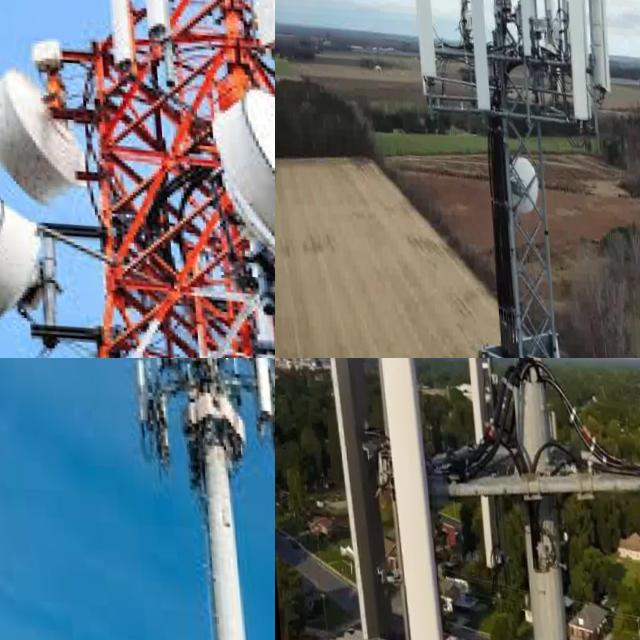GSM Antenna: (327, 358, 403, 640), (372, 358, 444, 640), (461, 358, 501, 570), (557, 0, 593, 119), (519, 358, 551, 475), (459, 0, 491, 108), (580, 0, 615, 92), (497, 145, 537, 215), (99, 0, 136, 70), (408, 0, 436, 76), (236, 0, 275, 50), (247, 358, 274, 429), (134, 0, 172, 38), (534, 0, 560, 48), (126, 358, 144, 413), (512, 0, 530, 43)
Microwave Antenna: (202, 76, 275, 299), (0, 63, 90, 207), (0, 183, 49, 348)
